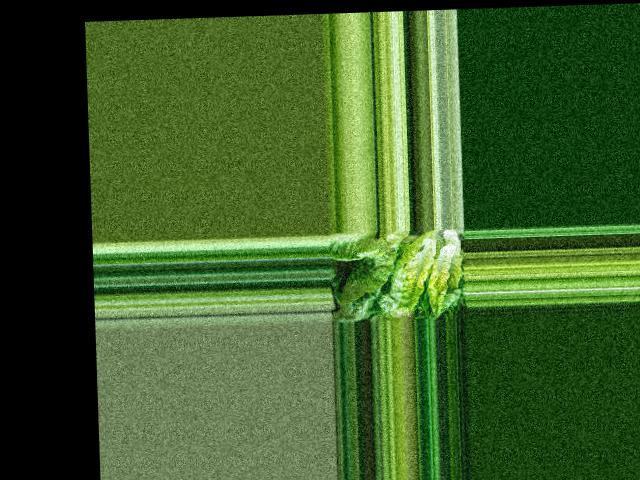lettuce: (375, 227, 464, 315)
